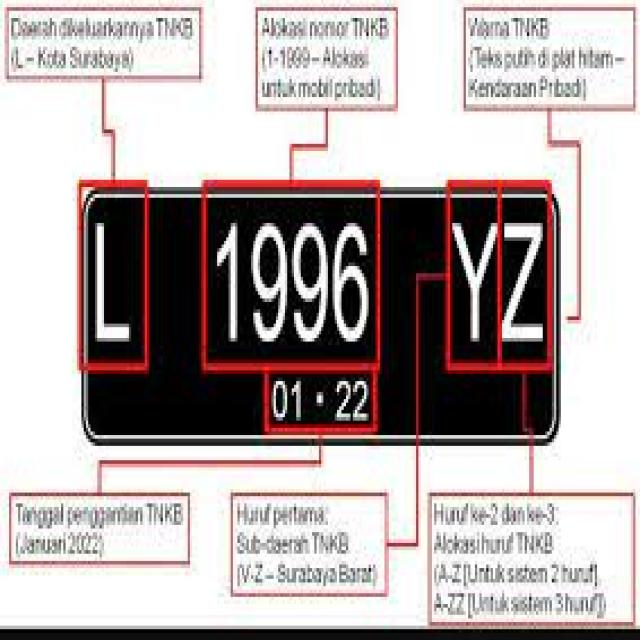lisence-plate: (77, 175, 563, 449)
